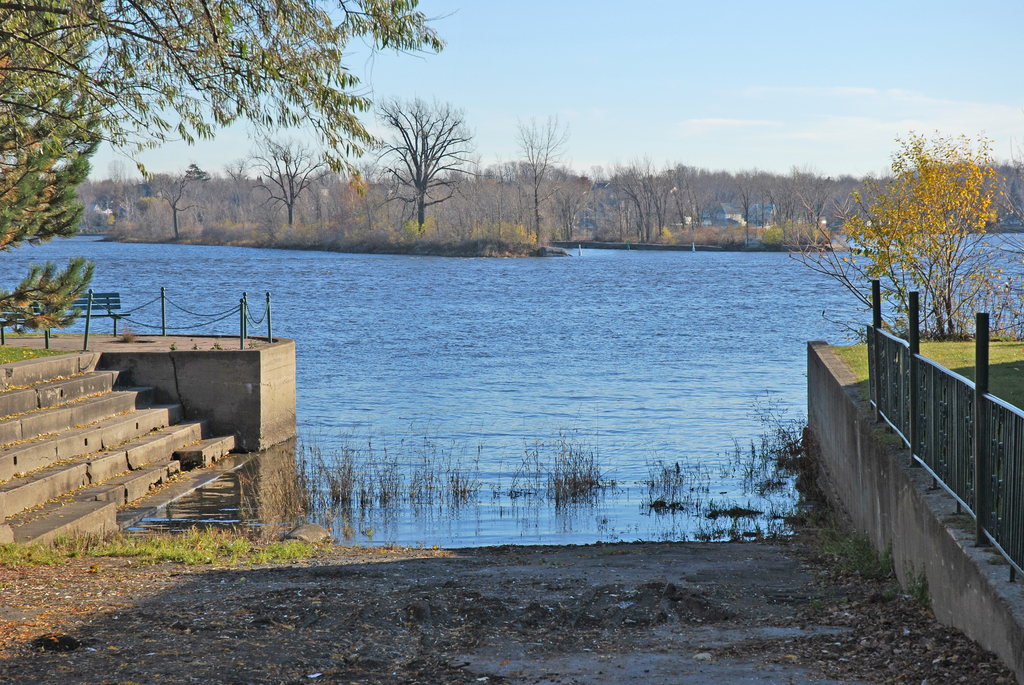Tree: (0, 0, 446, 260), (819, 111, 1023, 342), (364, 89, 474, 223), (504, 102, 556, 246), (138, 158, 199, 242), (252, 137, 301, 239), (609, 162, 654, 239), (734, 162, 768, 243), (671, 163, 708, 233)
